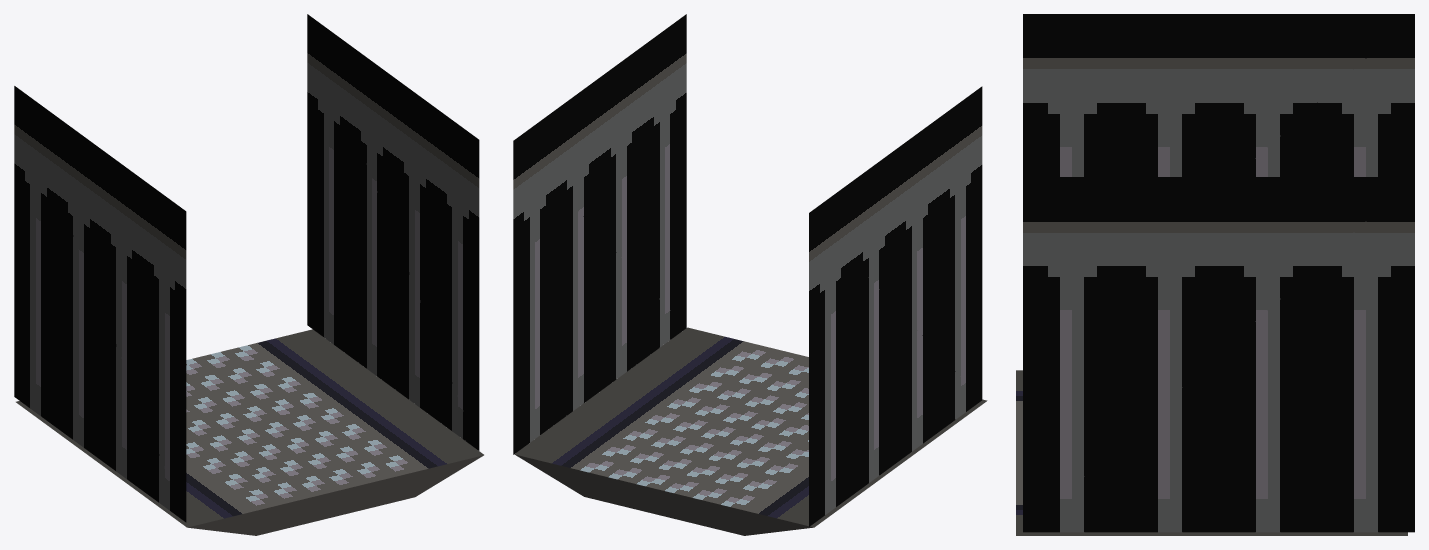
The model's file is walkway.glb.
3 views of the same model, side by side, from view 1: azimuth 30°, elevation 25°; view 2: azimuth 150°, elevation 25°; view 3: azimuth 270°, elevation 25° (orthographic). The views are drawn at different scales.
Parts seen in each view (by area): view 1: Cube; view 2: Cube; view 3: Cube.
Part boxes in pixels (box(x1,y1,x2,y2)): Cube: box(14, 14, 483, 535); Cube: box(513, 14, 987, 535); Cube: box(1016, 14, 1414, 535).
Size of the model in its own units: 2 by 2.18 by 2.04.
2 materials, 2 textured.
